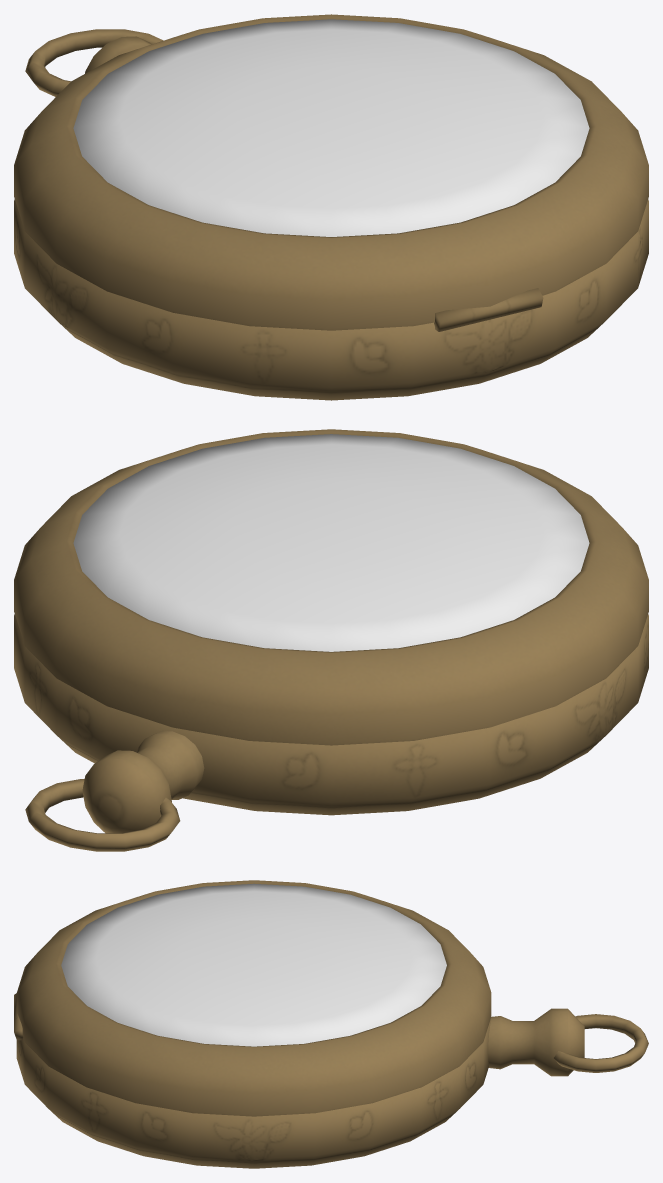
File: pocket_watch_01.fbx
3 renders of one model, top to bottom at view 1: azimuth 30°, elevation 25°; view 2: azimuth 150°, elevation 25°; view 3: azimuth 270°, elevation 25°, orthographic. The views are drawn at different scales.
Visible parts, largest first — view 1: pocket_watch_01 lid, pocket_watch_01; view 2: pocket_watch_01 lid, pocket_watch_01; view 3: pocket_watch_01 lid, pocket_watch_01.
Part boxes in pixels (<box>): pocket_watch_01 lid: <box>14,14,648,330</box>; pocket_watch_01: <box>14,29,648,400</box>; pocket_watch_01 lid: <box>14,429,648,745</box>; pocket_watch_01: <box>14,614,648,851</box>; pocket_watch_01 lid: <box>16,880,491,1116</box>; pocket_watch_01: <box>14,993,648,1168</box>.
Size of the model in its own units: 20.13 by 6.34 by 26.93.
